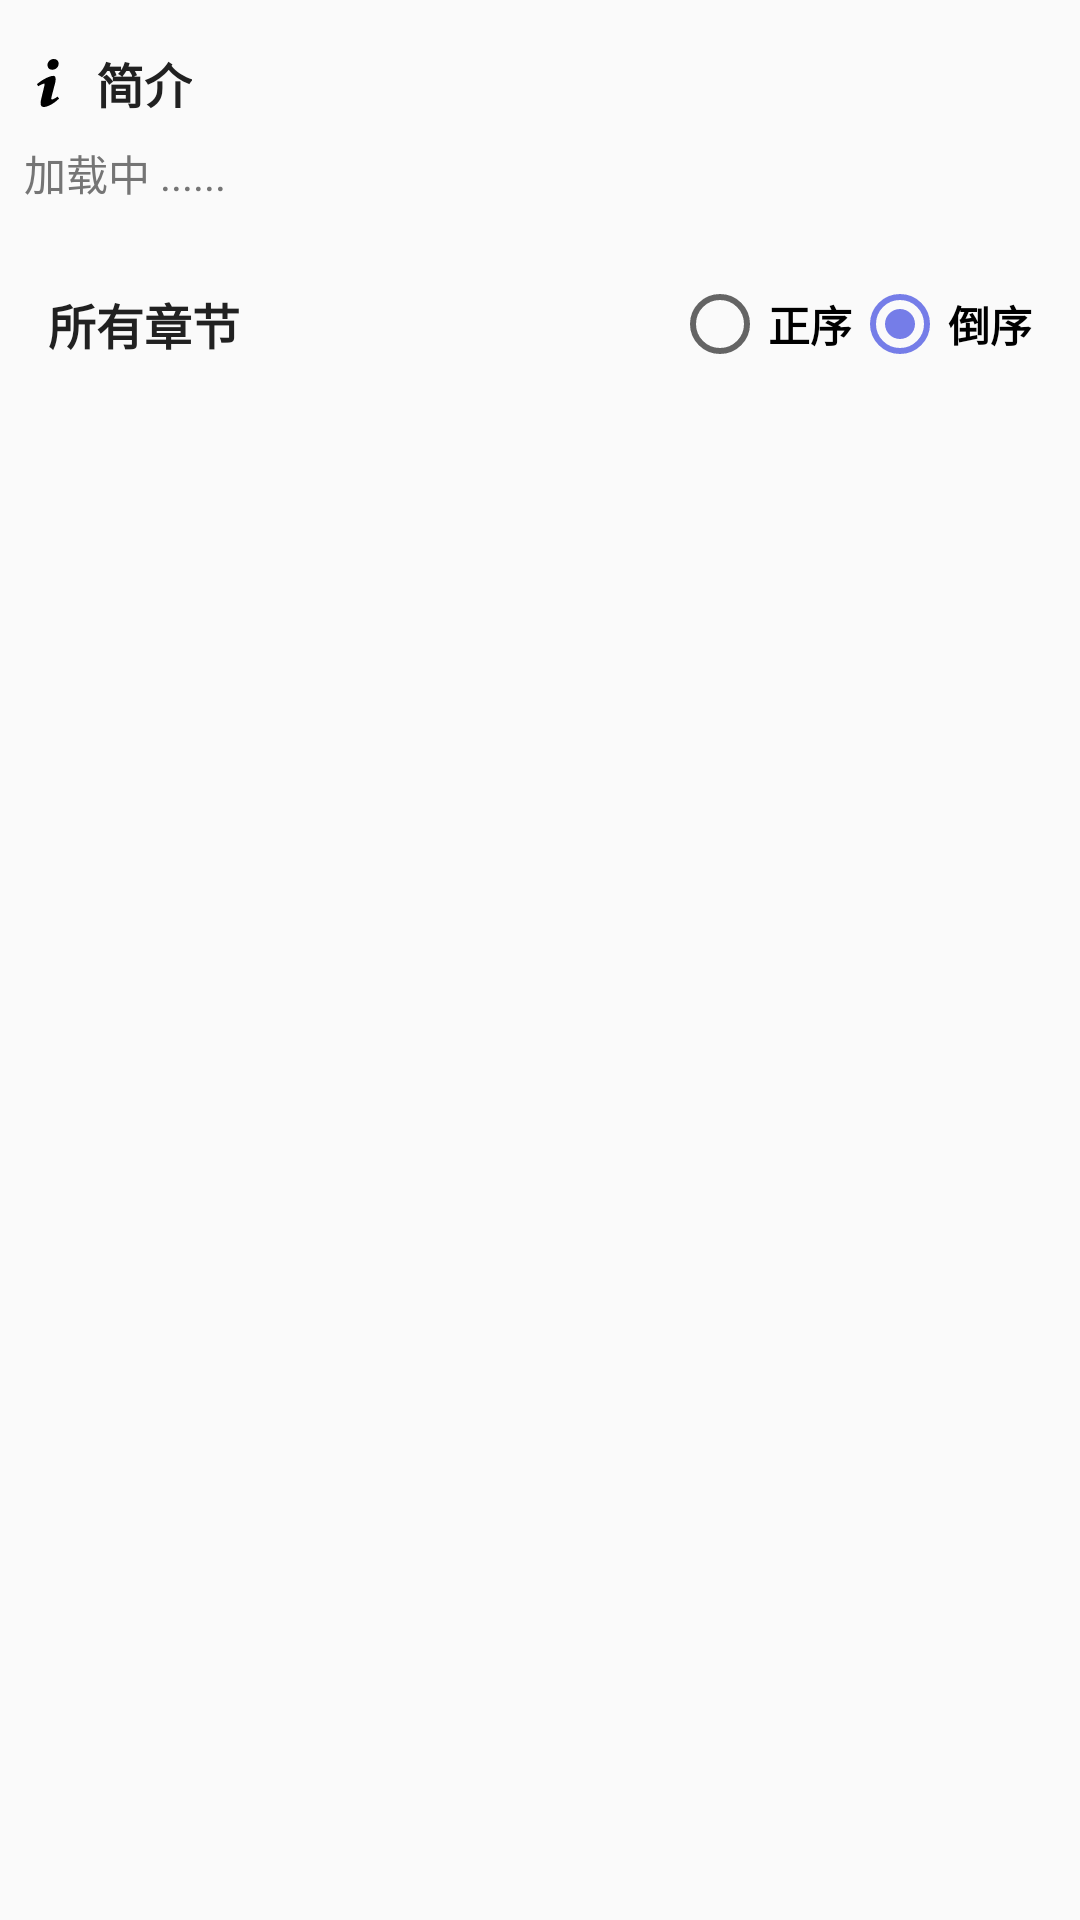

Icons on this 1080 × 1920 Android screen, each with its box as [left=x1, top=y1, right=x2, bottom=y2]:
info intro: [left=37, top=59, right=59, bottom=107]
